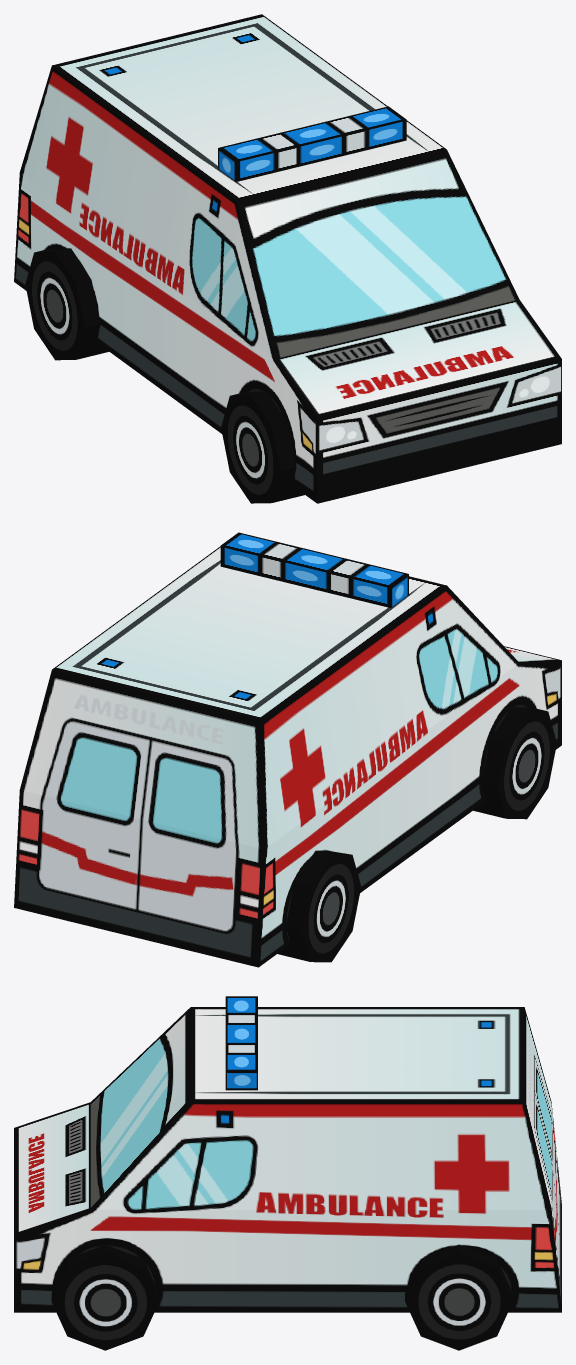
The model's file is car6_10.gltf.
3 views of the same model, one above another, from view 1: azimuth 30°, elevation 25°; view 2: azimuth 150°, elevation 25°; view 3: azimuth 270°, elevation 25° (orthographic). The views are drawn at different scales.
Parts seen in each view (by area): view 1: Cylinder.002; view 2: Cylinder.002; view 3: Cylinder.002.
Part boxes in pixels (left/top/right/bottom): Cylinder.002: left=14, top=14, right=561, bottom=503; Cylinder.002: left=14, top=532, right=561, bottom=967; Cylinder.002: left=14, top=996, right=561, bottom=1350.
Size of the model in its own units: 2.79 by 2.68 by 5.24.
Materials: 1 (1 with a texture image).
